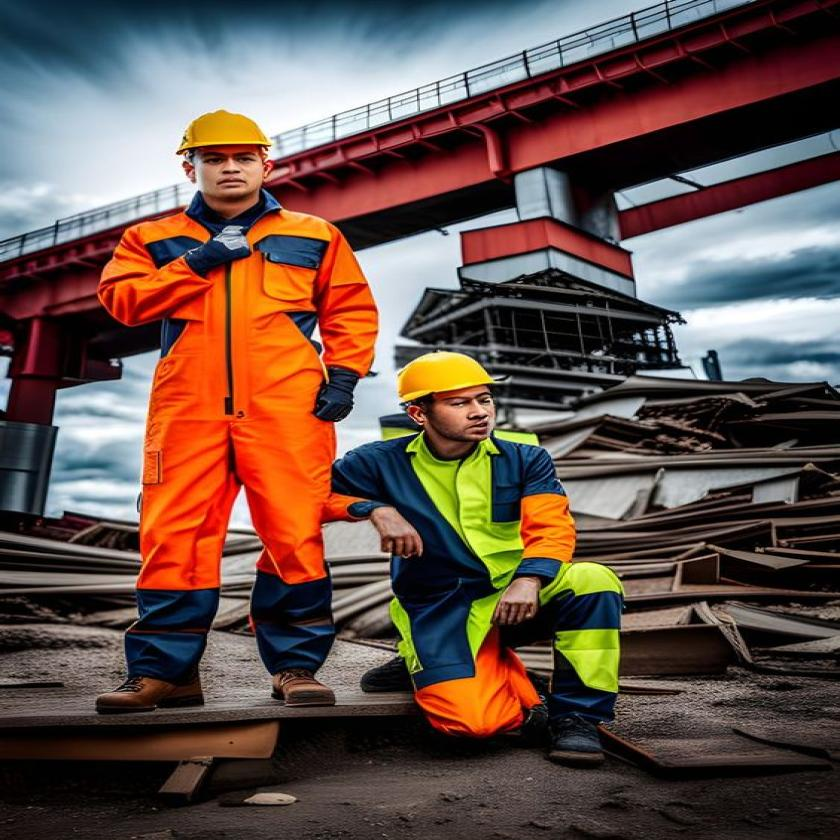Con_casco: (164, 94, 302, 210), (390, 346, 507, 459)
